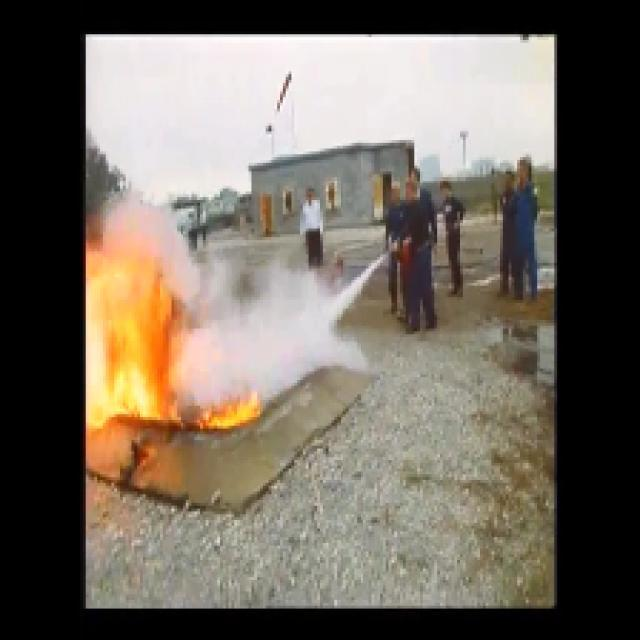Fire: (89, 262, 164, 426)
